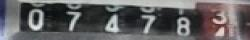digits: (27, 8, 44, 29), (64, 9, 80, 31), (139, 13, 156, 32), (104, 13, 120, 32), (176, 16, 190, 35), (210, 9, 227, 24)
